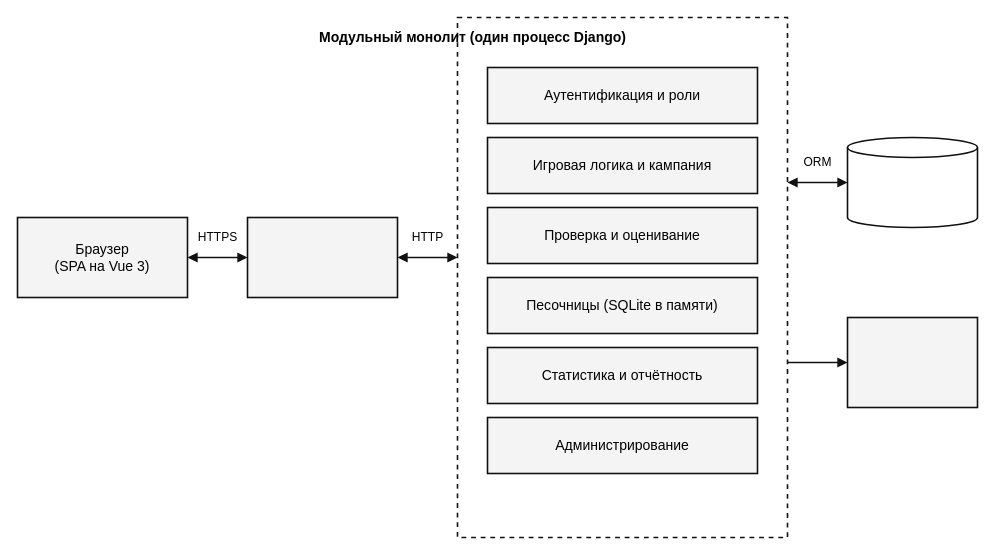
Image size: 996x556. Some labels were removed from this diagram. The centre of each missing label's shape, as x and y in pixels:
"Nginx TLS, статика" belongs at (x=322, y=257).
"PostgreSQL БД платформы" belongs at (x=912, y=182).
"Файлы дампы, эталоны" belongs at (x=912, y=362).
